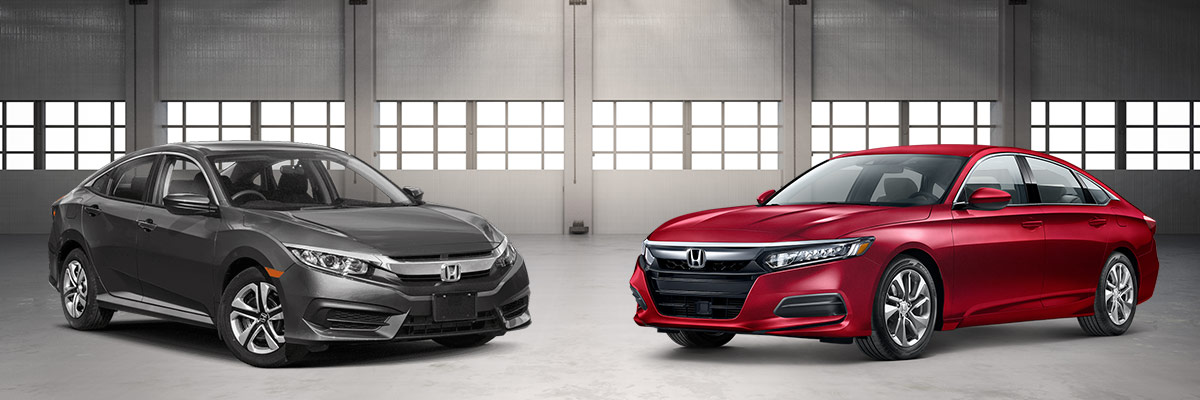accord: (621, 131, 1171, 378), (39, 131, 545, 384)
